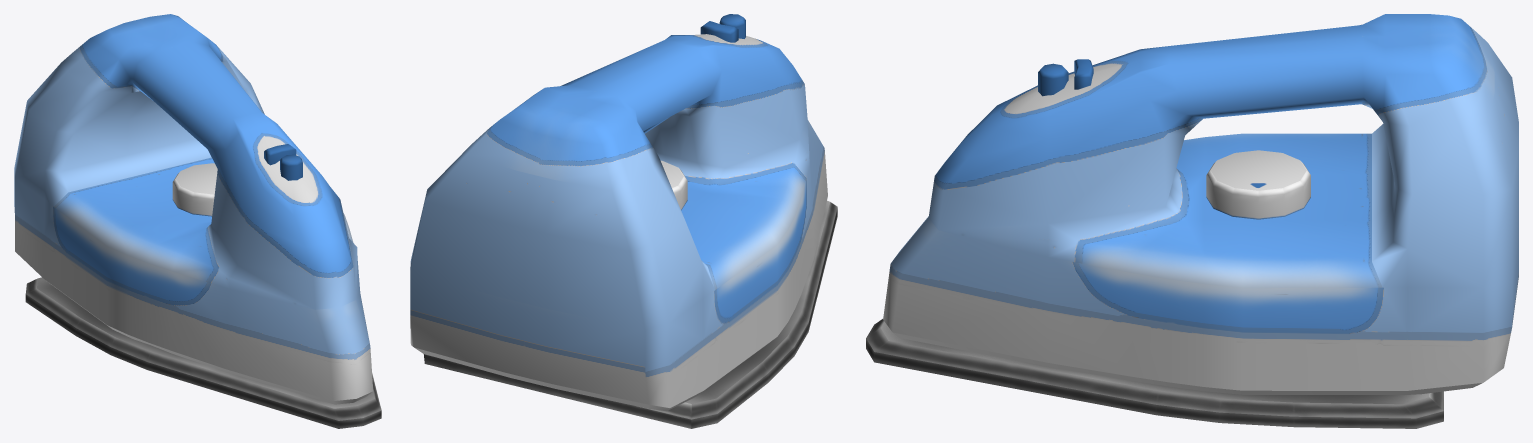
The model's file is ElectricIron.fbx.
The picture shows the model from 3 angles, left to right: view 1: azimuth 30°, elevation 25°; view 2: azimuth 150°, elevation 25°; view 3: azimuth 270°, elevation 25°; orthographic projection. The views are drawn at different scales.
Visible parts, largest first — view 1: maiinbody, iron, lid, switch2, switch1; view 2: maiinbody, iron, lid, switch1; view 3: maiinbody, iron, lid, switch2.
Boxes of the visible parts, x1,y1,x2,y2 form: maiinbody: (14, 14, 373, 404); iron: (25, 277, 381, 428); lid: (172, 163, 217, 216); switch2: (280, 154, 302, 180); switch1: (264, 144, 296, 165); maiinbody: (410, 34, 827, 411); iron: (423, 200, 837, 428); lid: (661, 160, 687, 210); switch1: (700, 21, 738, 42); maiinbody: (883, 14, 1518, 394); iron: (866, 319, 1443, 428); lid: (1206, 150, 1310, 219); switch2: (1038, 63, 1068, 96).
Bounding box in the file's own units: 39.66 × 36.12 × 68.2.
